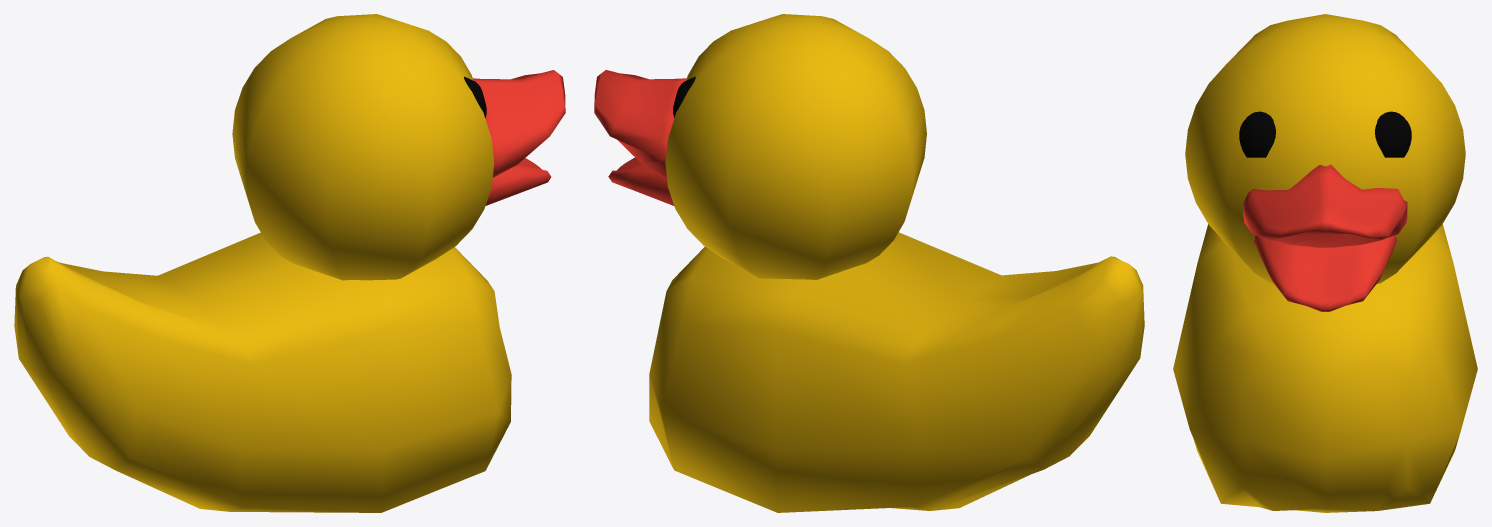
Rendered from DUCK.fbx.
The picture shows the model from 3 angles, left to right: view 1: azimuth 30°, elevation 25°; view 2: azimuth 150°, elevation 25°; view 3: azimuth 270°, elevation 25°; orthographic projection. The views are drawn at different scales.
Parts seen in each view (by area): view 1: beak1; view 2: beak1; view 3: beak1.
Part boxes in pixels (x1,y1,x2,y2): beak1: [14, 14, 565, 512]; beak1: [594, 14, 1144, 512]; beak1: [1173, 14, 1477, 512].
Bounding box in the file's own units: 93.21 × 74.56 × 43.84.
